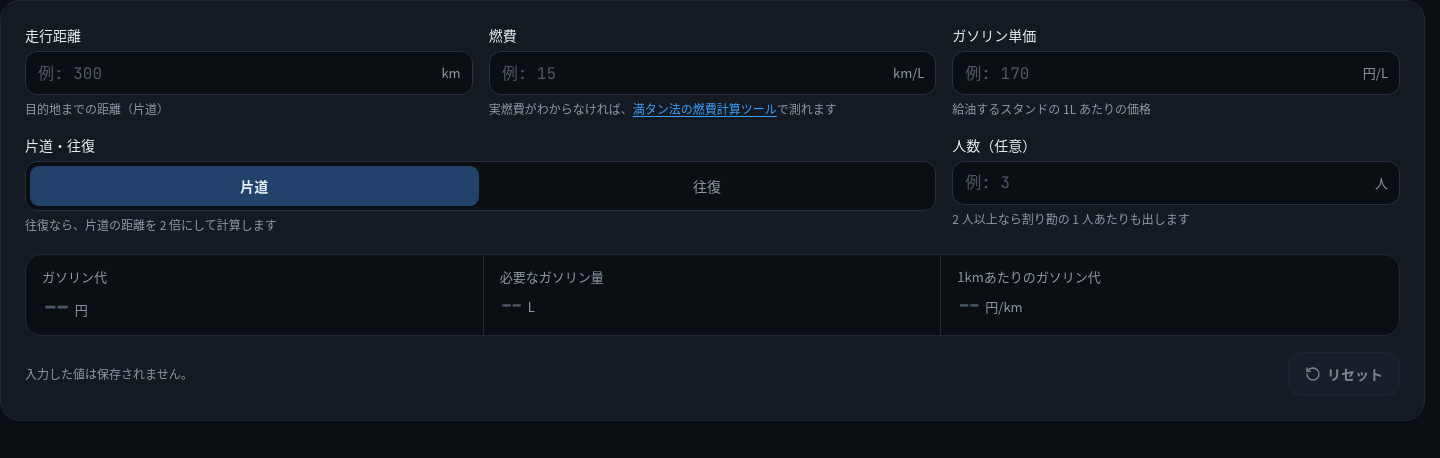
it: GasCostCalculator › 不正な入力には日本語のメッセージを出し、リセットで消す
This screenshot has width=1440, height=458.
expect the button "リセット" is disabled: met, box [1288, 352, 1400, 396]
In the field labelled "走行距離": (249, 73) [25, 51, 473, 95], type "abc"
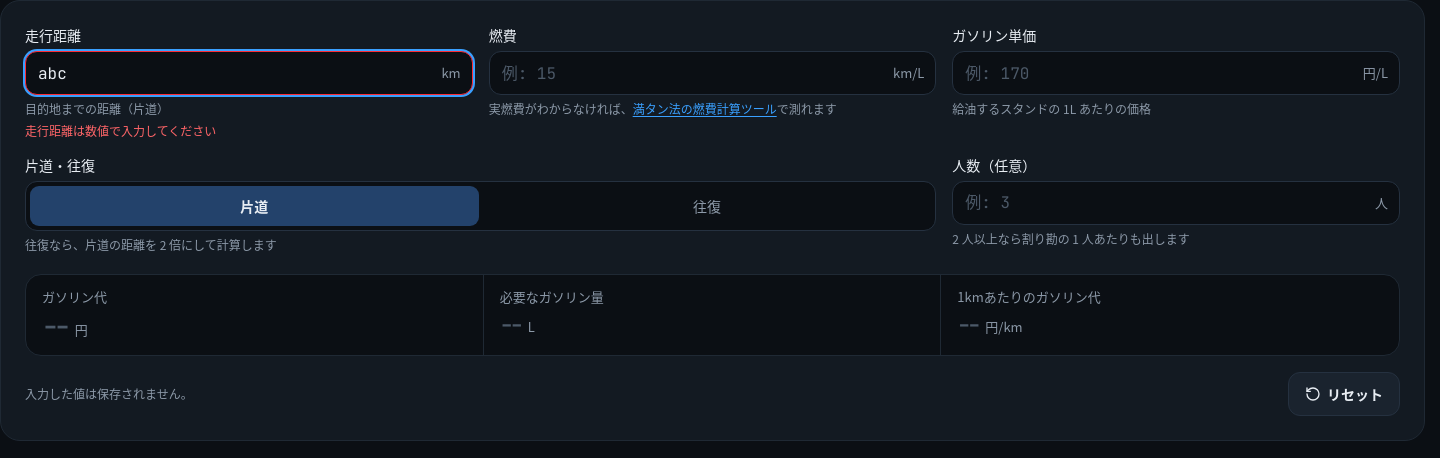
In the field labelled "燃費": (713, 73) [489, 51, 936, 95], type "0"
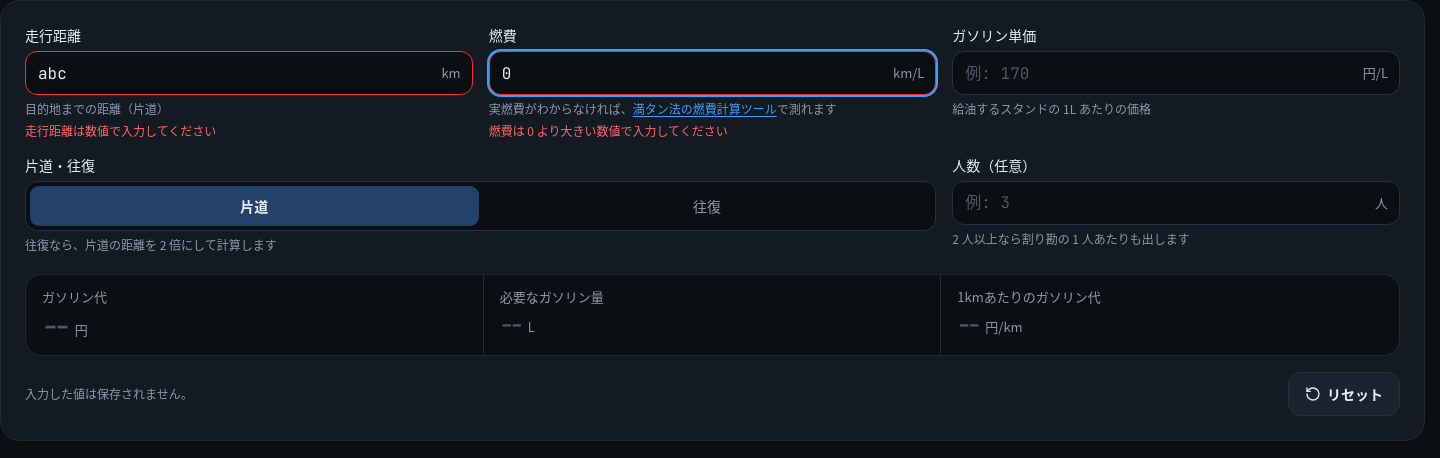
expect the text "走行距離は数値で入力してください" is shown: met, box [25, 122, 216, 138]
expect the text "燃費は 0 より大きい数値で入力してください" is shown: met, box [489, 122, 728, 138]
Click the button "リセット": (1344, 394) [1288, 372, 1400, 416]
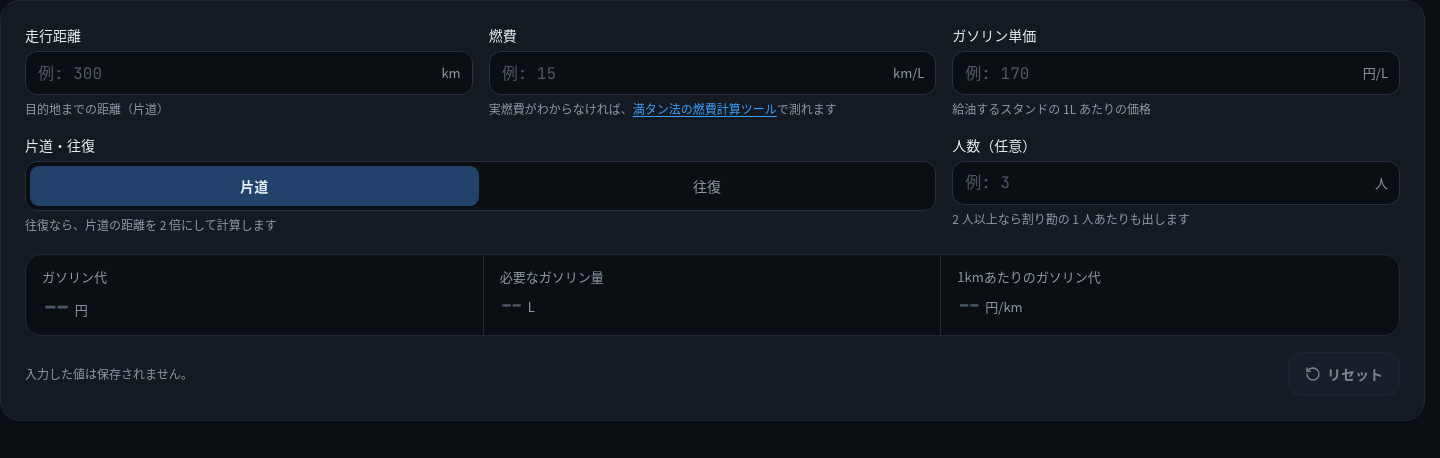
expect the field labelled "走行距離" is empty: met, box [25, 51, 473, 95]
expect the field labelled "燃費" is empty: met, box [489, 51, 936, 95]
expect the text "走行距離は数値で入力してください" is gone: met
